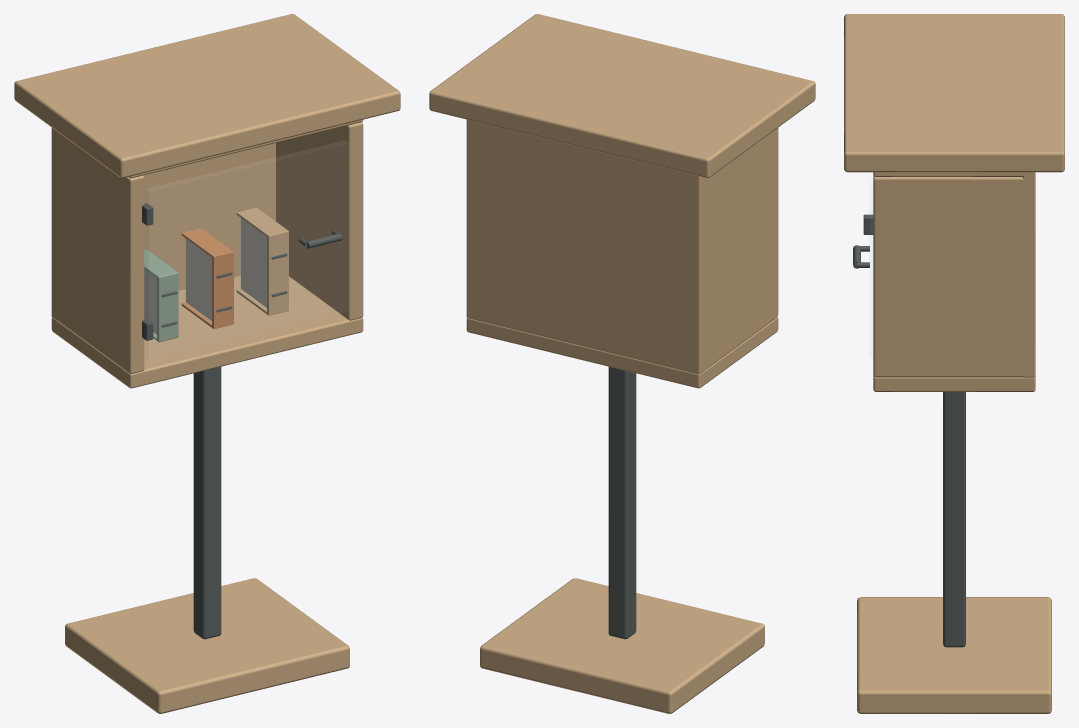
The model's file is public-library-and-reading-garden-public-library-and-r-d660a7a4__30949.glb.
3 views of the same model, side by side, from view 1: azimuth 30°, elevation 25°; view 2: azimuth 150°, elevation 25°; view 3: azimuth 270°, elevation 25° (orthographic). The views are drawn at different scales.
Parts seen in each view (by area): view 1: public-library-and-reading-garden-rain-book-shelter; view 2: public-library-and-reading-garden-rain-book-shelter; view 3: public-library-and-reading-garden-rain-book-shelter.
Boxes of the visible parts, bbox=[...] form: public-library-and-reading-garden-rain-book-shelter: bbox=[14, 14, 400, 713]; public-library-and-reading-garden-rain-book-shelter: bbox=[429, 14, 815, 713]; public-library-and-reading-garden-rain-book-shelter: bbox=[844, 14, 1064, 713].
Bounding box in the file's own units: 1.02 × 1.99 × 0.68.
